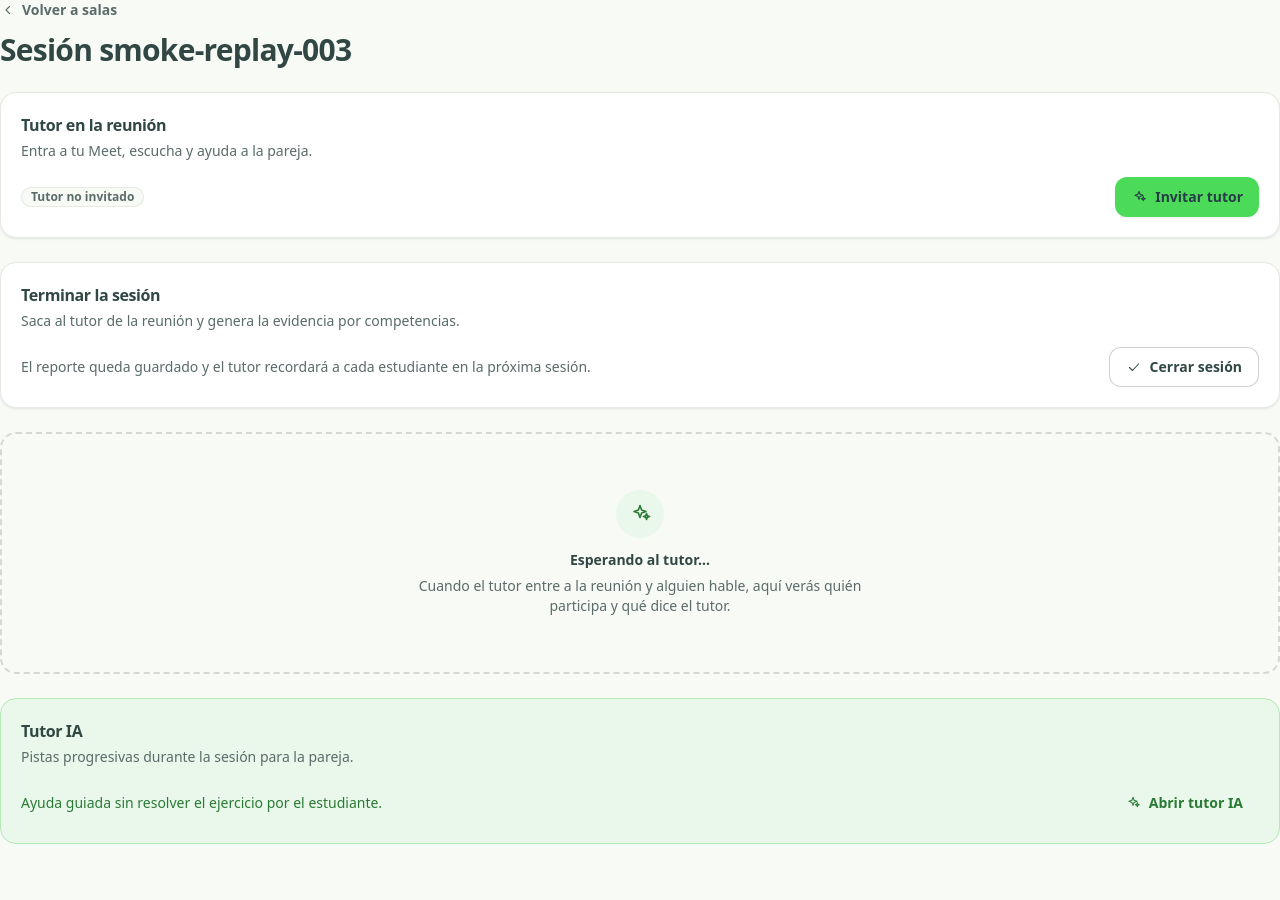
SessionDetailPage › shows the server message when the invite fails
The width and height of the screenshot is (1280, 900).
Click the button "Invitar tutor".
click(1187, 197)  # box x1=1115 y1=177 x2=1259 y2=217
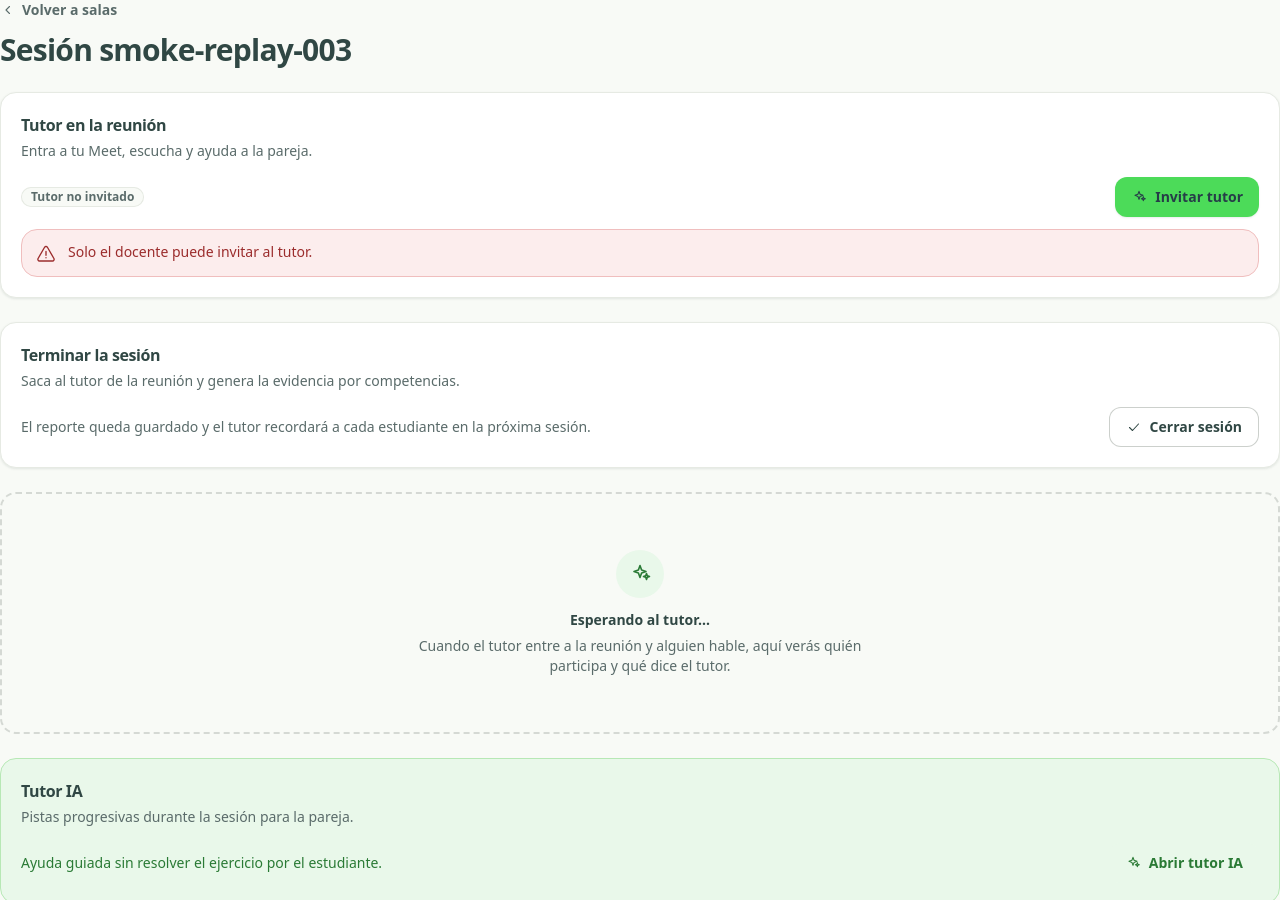
Expected: the text "Solo el docente puede invitar al tutor." is shown, x1=68 y1=242 x2=312 y2=261
